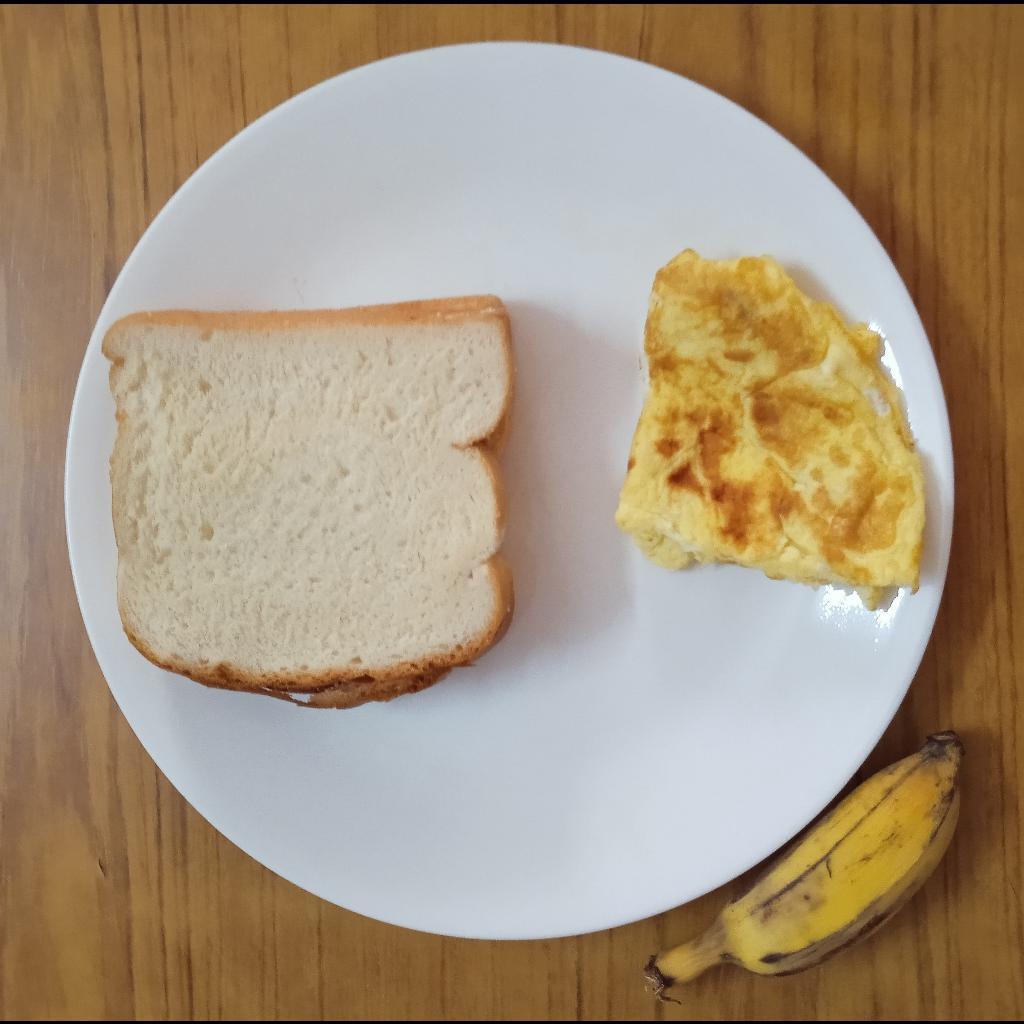banana: (644, 728, 965, 1005)
bread: (101, 294, 516, 711)
egg-poached: (613, 245, 927, 609)
